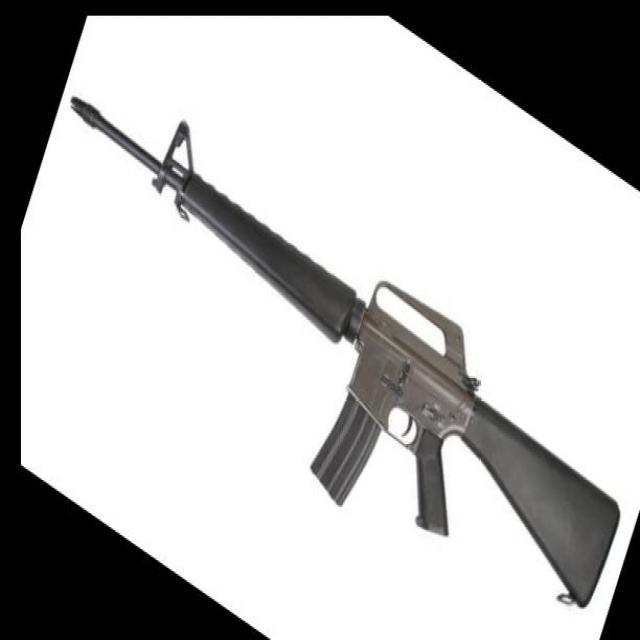weapon: (69, 94, 622, 612)
